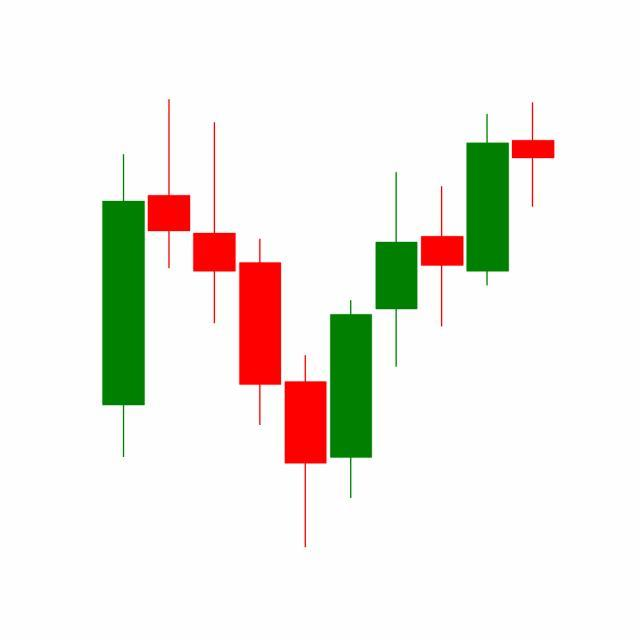Hikkake Pattern: (283, 110, 512, 549)
